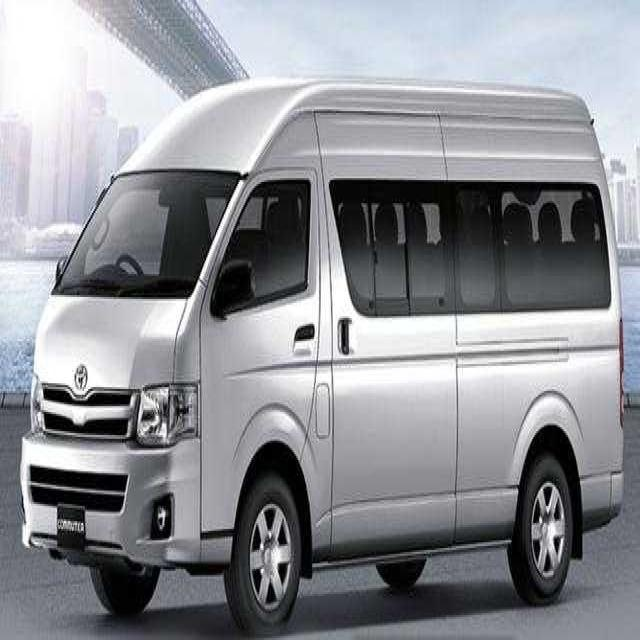Van: (23, 67, 629, 640)
